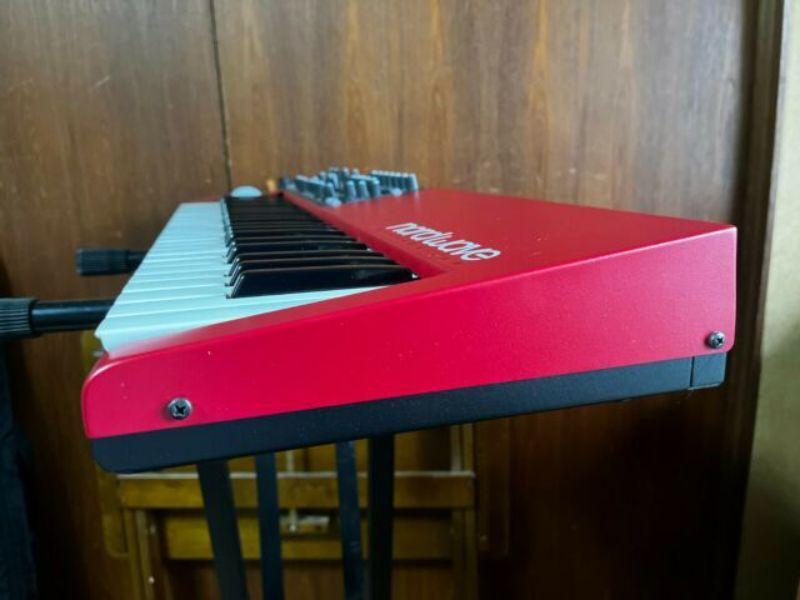synthesizer: (71, 152, 745, 489)
